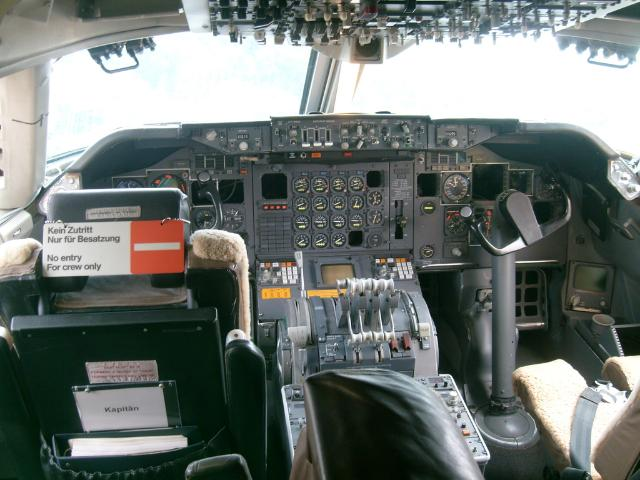Seatbelt: (568, 385, 602, 479)
